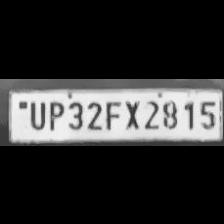1: (180, 97, 196, 128)
2: (84, 98, 104, 130), (141, 96, 159, 130)
3: (64, 98, 84, 130)
5: (196, 97, 216, 129)
8: (160, 98, 178, 130)
F: (104, 98, 120, 130)
P: (46, 98, 64, 130)
U: (26, 97, 46, 128)
X: (120, 96, 142, 130)
